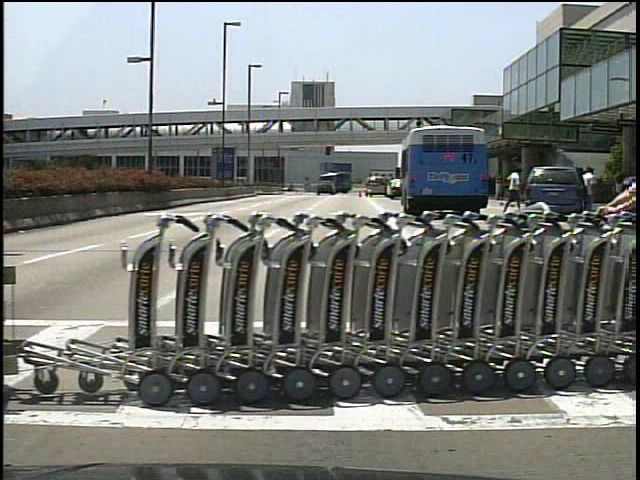person: (580, 165, 601, 214), (574, 164, 589, 217), (504, 164, 520, 213)
